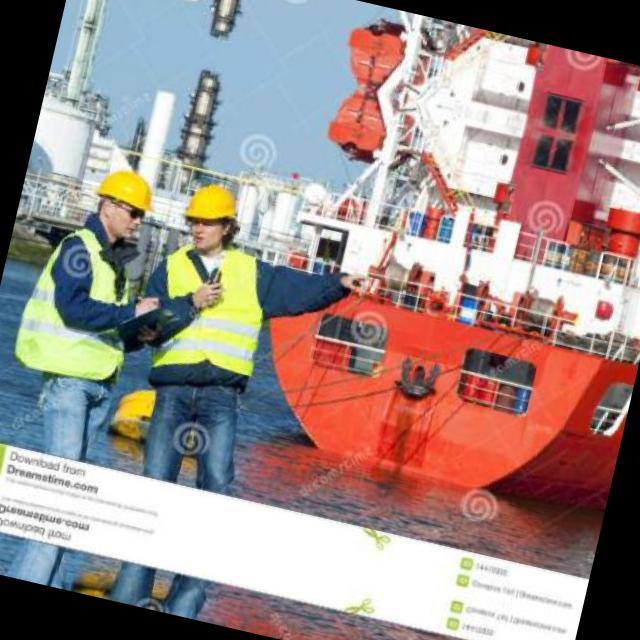helmet: (82, 156, 165, 248), (169, 173, 250, 261), (104, 372, 160, 459), (72, 564, 118, 597)
